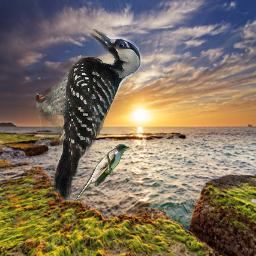Cuckoo: (75, 144, 129, 201)
Woodpecker: (36, 29, 143, 202)
